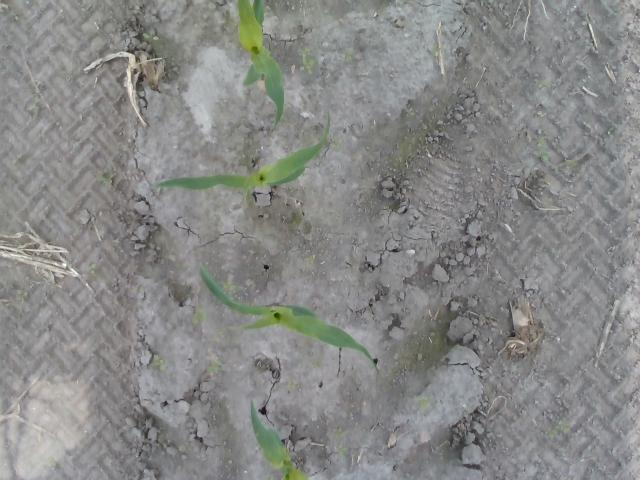Maize: (198, 260, 381, 379), (146, 107, 333, 210), (234, 1, 285, 135), (251, 400, 312, 480)
Weeds: (532, 136, 552, 164), (546, 420, 571, 442), (298, 48, 318, 74), (414, 395, 434, 412), (148, 355, 166, 371), (339, 48, 355, 64), (206, 360, 222, 376), (215, 281, 238, 292), (26, 100, 40, 117), (193, 310, 206, 328), (563, 157, 582, 169), (98, 173, 112, 187), (14, 290, 28, 303), (334, 444, 346, 458), (539, 78, 551, 92), (142, 33, 160, 42), (404, 106, 416, 118), (216, 327, 226, 341), (334, 428, 346, 439), (84, 264, 95, 273), (306, 256, 314, 268), (431, 44, 440, 54), (12, 154, 22, 162)
